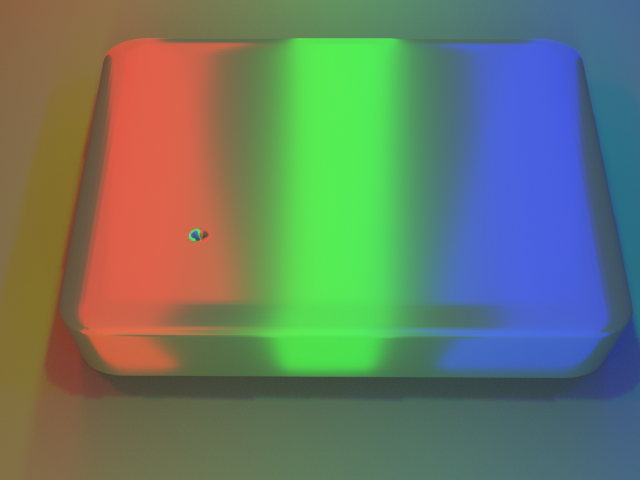dent: (165, 218, 209, 260)
